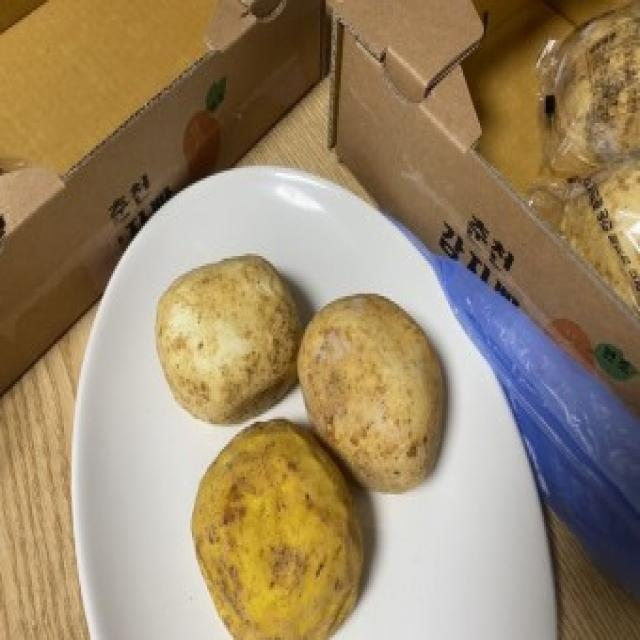potato: (185, 415, 375, 640), (295, 291, 450, 493), (150, 252, 308, 430)
